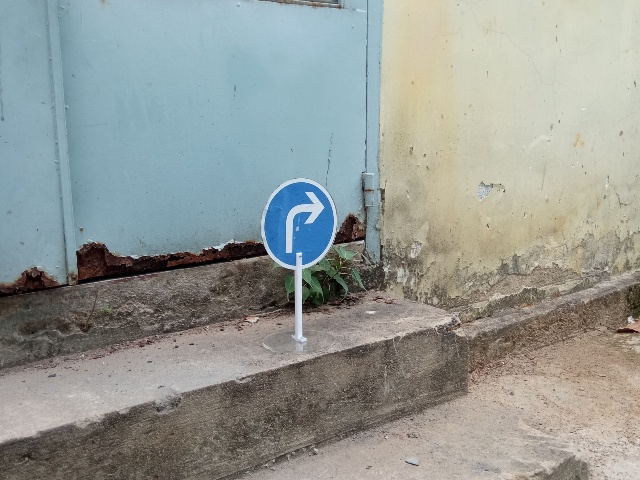Right_Sign: (260, 178, 338, 271)
